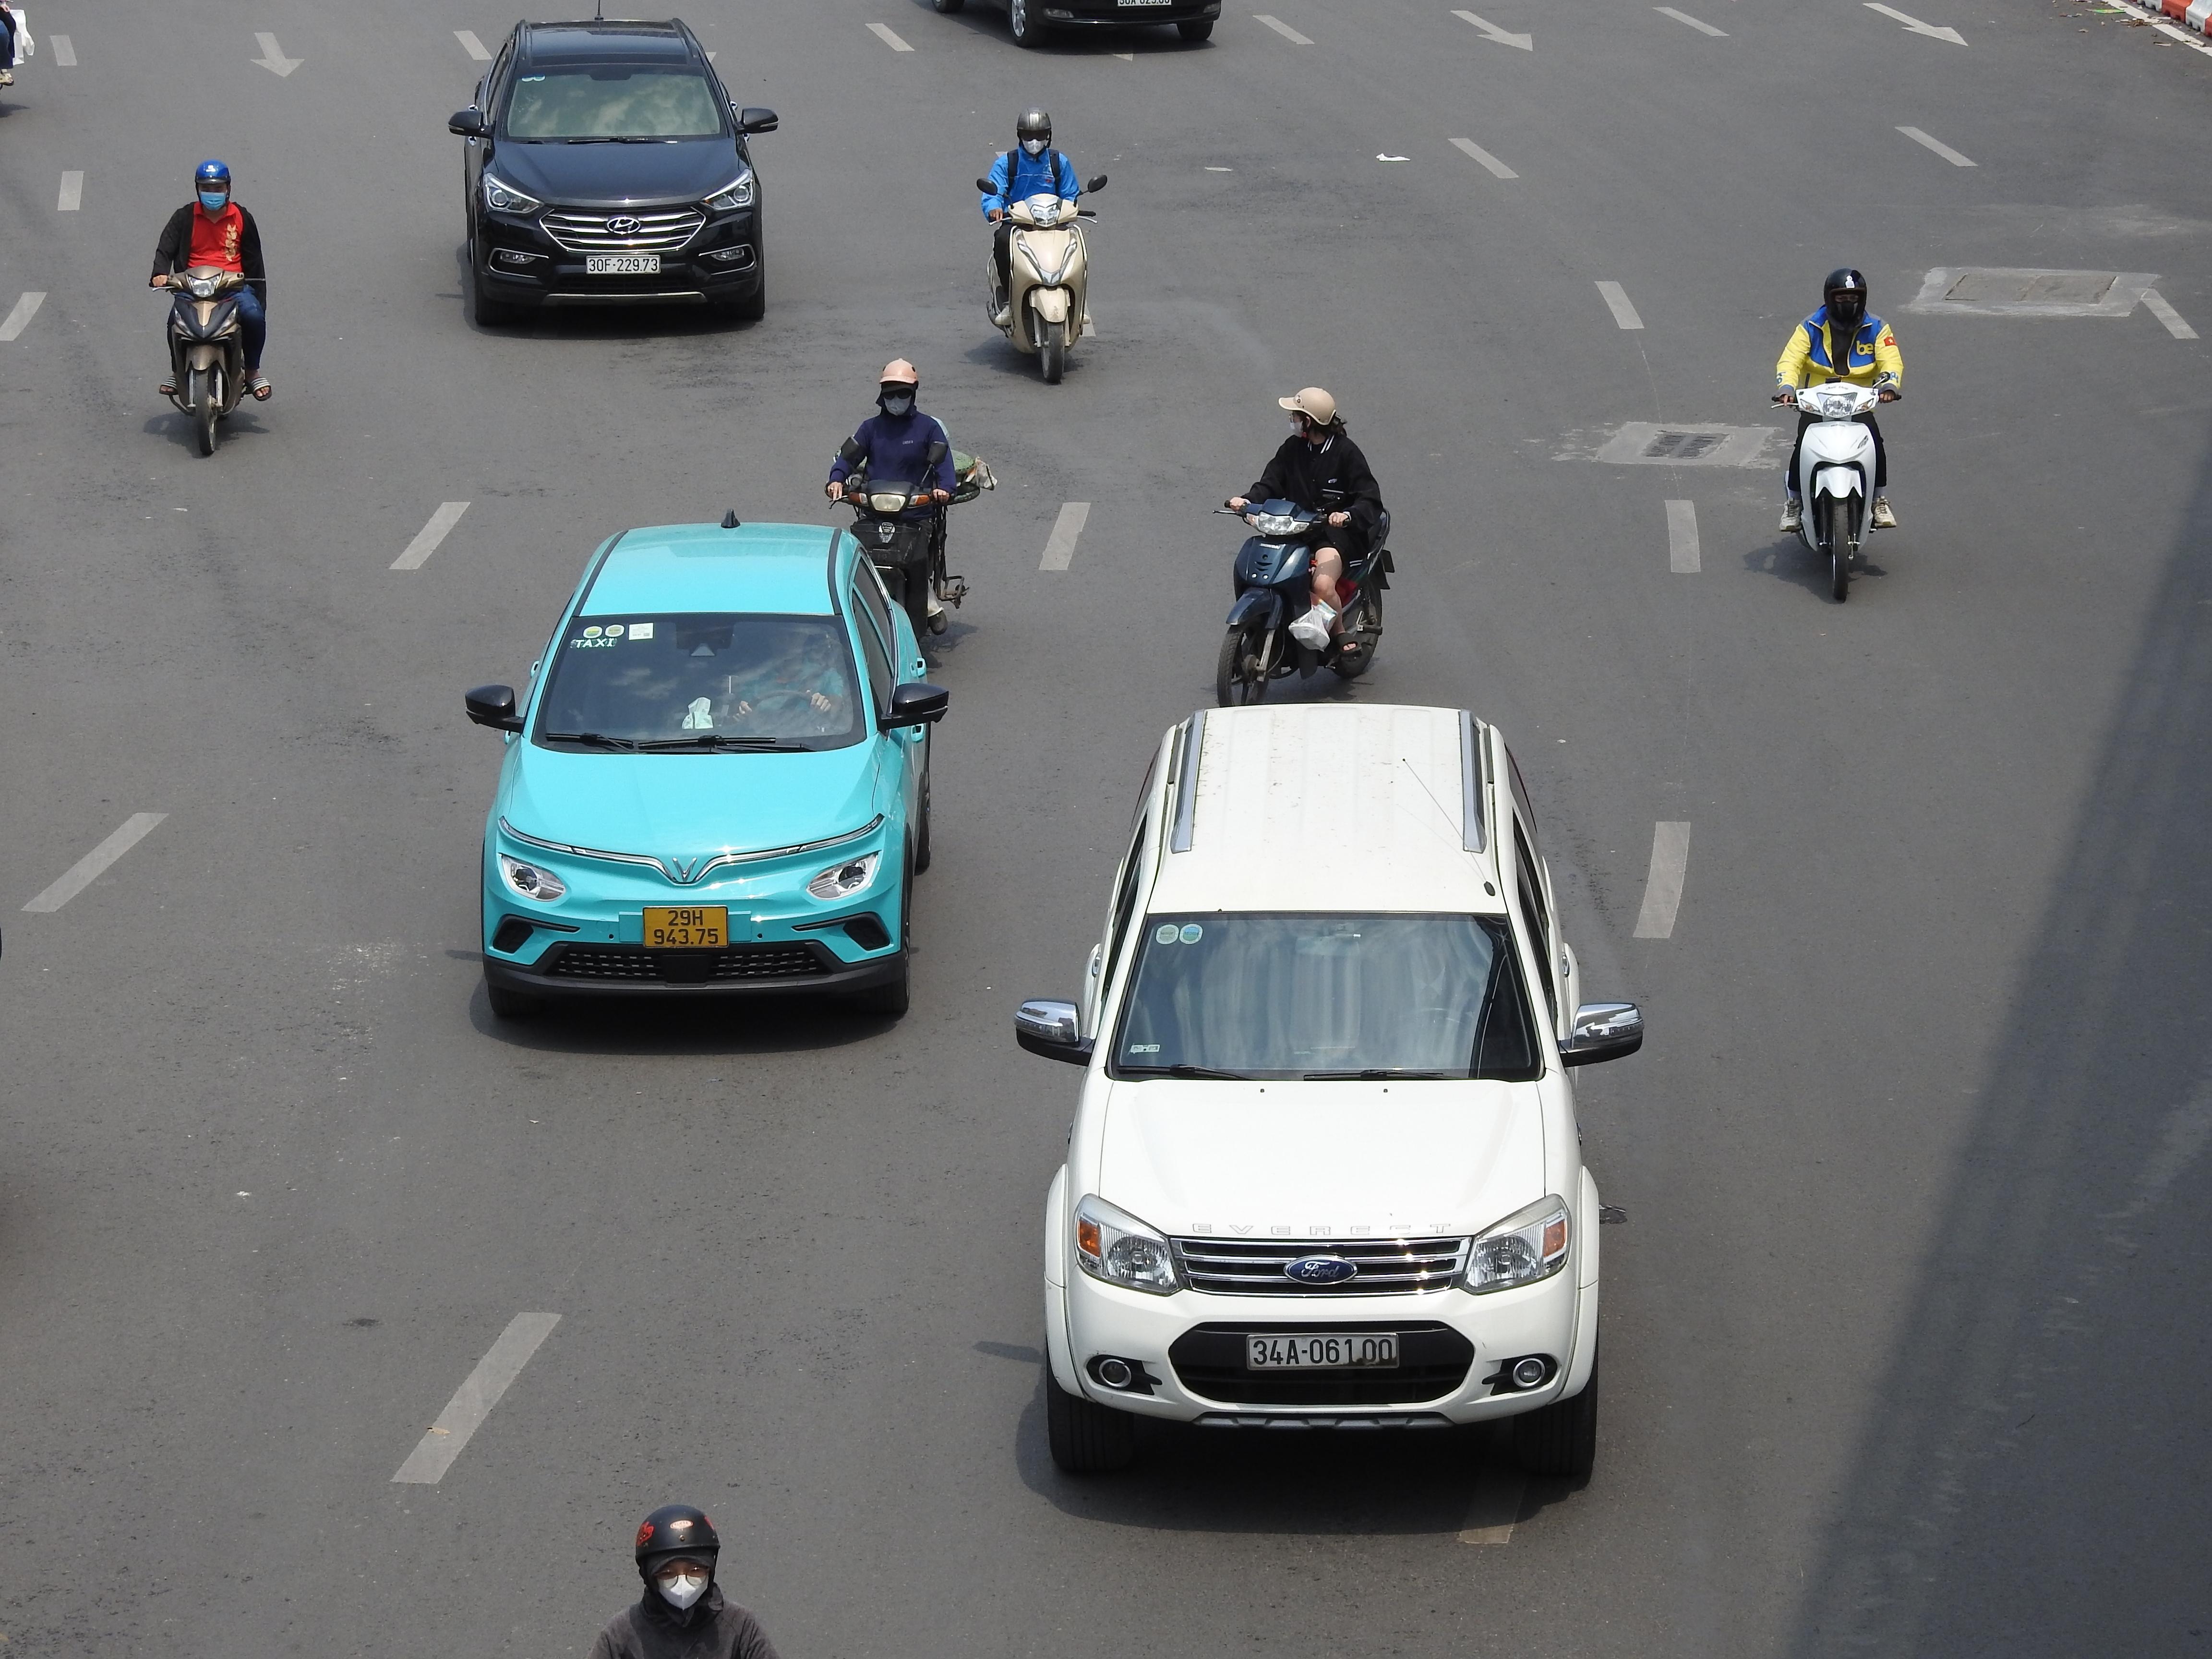BSD: (1247, 1331, 1400, 1370), (585, 256, 662, 274)
BSV: (643, 906, 730, 948)
car: (1015, 699, 1644, 1485), (465, 518, 951, 1023), (446, 14, 780, 331)
motorbike: (1214, 385, 1393, 709), (826, 359, 975, 648), (1775, 267, 1900, 605), (152, 159, 270, 458), (981, 108, 1103, 387)
